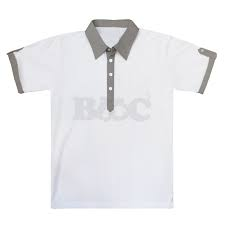C_polo shirt: (6, 22, 224, 209)
